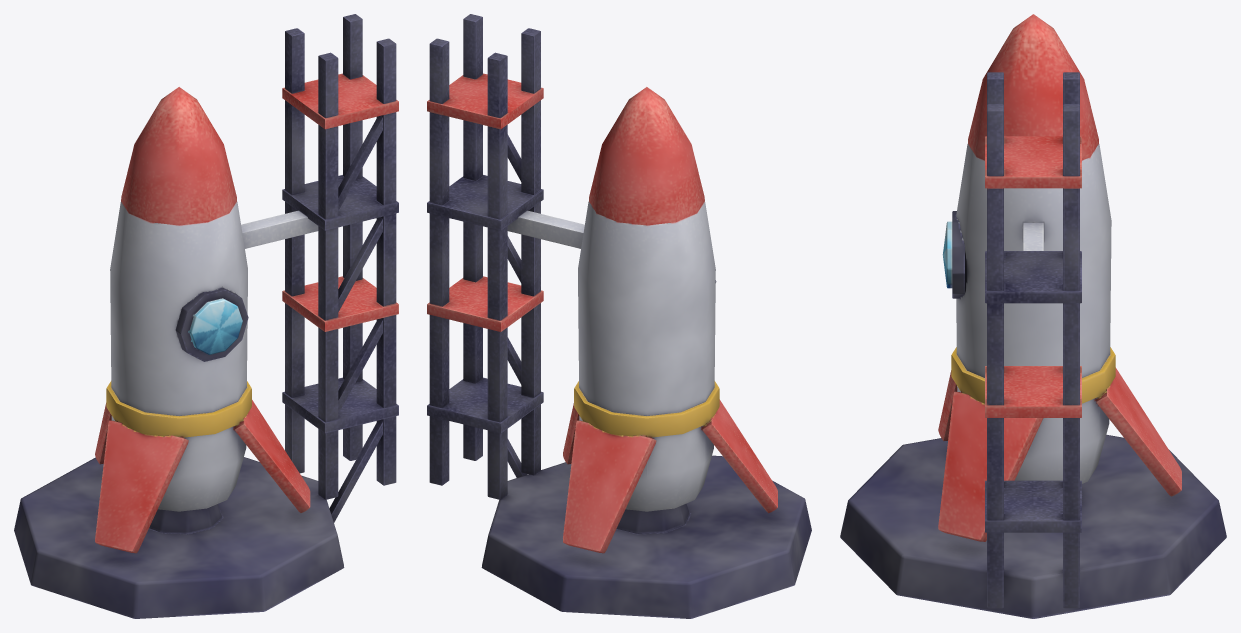
Rendered from Cosmos_Fusee.fbx.
3 views of the same model, side by side, from view 1: azimuth 30°, elevation 25°; view 2: azimuth 150°, elevation 25°; view 3: azimuth 270°, elevation 25° (orthographic). The views are drawn at different scales.
Visible parts, largest first — view 1: Cosmos_Fusee; view 2: Cosmos_Fusee; view 3: Cosmos_Fusee.
Boxes of the visible parts, left/top/right/bottom form: Cosmos_Fusee: left=14, top=14, right=398, bottom=618; Cosmos_Fusee: left=427, top=14, right=811, bottom=618; Cosmos_Fusee: left=840, top=14, right=1226, bottom=618.
Size of the model in its own units: 1073 by 1400 by 917.
1 material, 1 textured.
